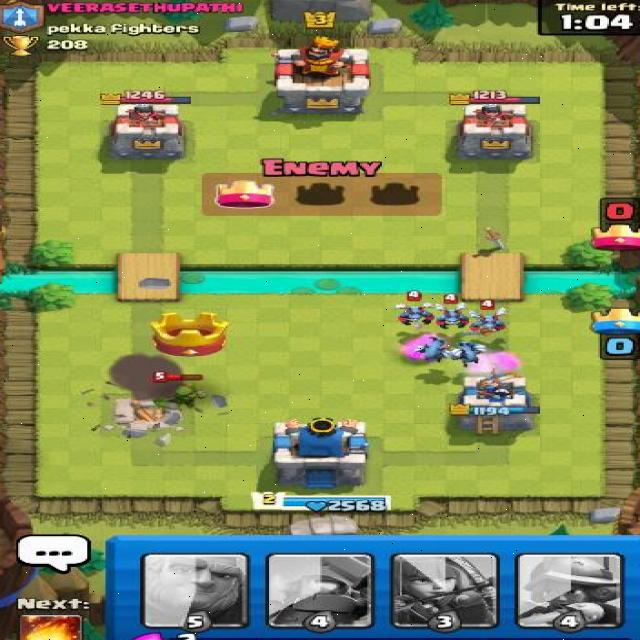Enemy-Brawler: (149, 371, 211, 412)
Enemy-Minion: (431, 292, 476, 330), (395, 290, 438, 327), (467, 298, 511, 334)
Player-Minion: (447, 338, 491, 368), (412, 336, 454, 364)
